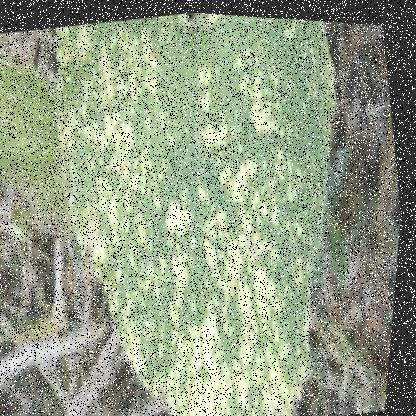DownyMildew: (75, 142, 373, 415), (165, 10, 364, 278), (44, 8, 220, 272)
